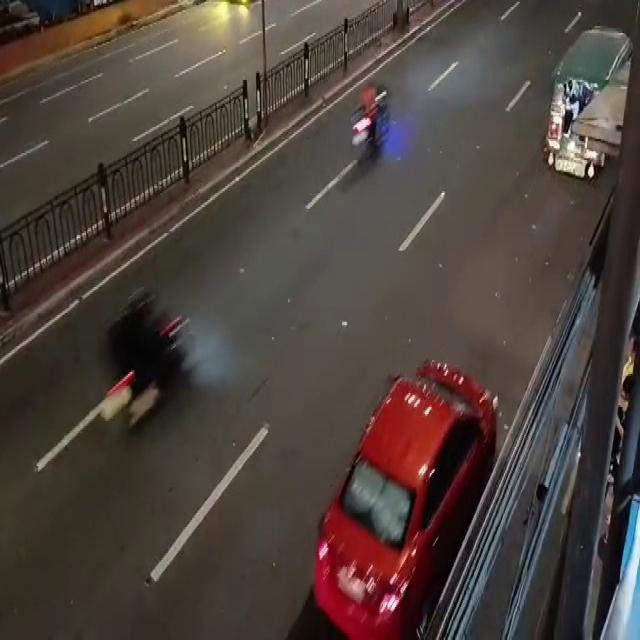car: (304, 357, 501, 640)
jeepney: (533, 15, 634, 190)
